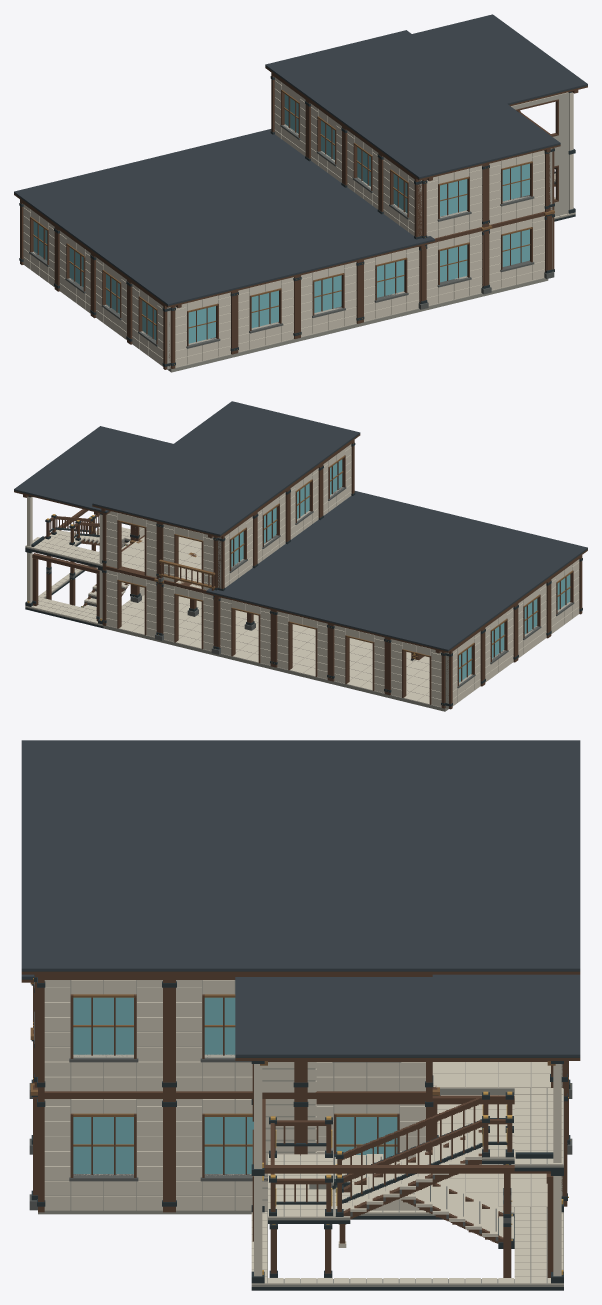
Rendered from visual-far.glb.
3 renders of one model, top to bottom at view 1: azimuth 30°, elevation 25°; view 2: azimuth 150°, elevation 25°; view 3: azimuth 270°, elevation 25°, orthographic. The views are drawn at different scales.
Parts seen in each view (by area): view 1: 连续屋面 · flat (×3), 真实窗洞与玻璃 (×16), 服务翼侧出口派生 · 原母版另存; view 2: 连续屋面 · flat (×3), 真实门洞墙 (×8), 真实窗洞与玻璃 (×8), 石铺面与混凝土楼板 (×8), 服务翼侧出口派生 · 原母版另存, 共享双跑回行踏步, 廊边木栏与实际竖梃; view 3: 连续屋面 · flat (×3), 真实窗洞与玻璃 (×6), 服务翼侧出口派生 · 原母版另存, 共享双跑回行踏步, 石铺面与混凝土楼板 (×3), 共享楼梯半转平台, 共享双跑上行踏步, 木柱、石础与金属抱箍.
Part boxes in pixels (box(x1,y1,x2,y2)): 连续屋面 · flat (×3): box(14, 14, 587, 307); 真实窗洞与玻璃 (×16): box(19, 72, 549, 369); 服务翼侧出口派生 · 原母版另存: box(511, 91, 575, 221); 连续屋面 · flat (×3): box(14, 401, 587, 653); 真实门洞墙 (×8): box(102, 511, 445, 708); 真实窗洞与玻璃 (×8): box(217, 440, 582, 709); 石铺面与混凝土楼板 (×8): box(103, 541, 448, 711); 服务翼侧出口派生 · 原母版另存: box(25, 496, 144, 628); 共享双跑回行踏步: box(45, 514, 99, 578); 廊边木栏与实际竖梃: box(158, 559, 215, 590); 连续屋面 · flat (×3): box(21, 740, 580, 1065); 真实窗洞与玻璃 (×6): box(37, 974, 433, 1212); 服务翼侧出口派生 · 原母版另存: box(251, 1061, 563, 1290); 共享双跑回行踏步: box(334, 1091, 514, 1223); 石铺面与混凝土楼板 (×3): box(432, 1062, 550, 1208); 共享楼梯半转平台: box(268, 1116, 333, 1277); 共享双跑上行踏步: box(334, 1154, 514, 1248); 木柱、石础与金属抱箍: box(29, 1083, 37, 1210).
Bounding box in the file's own units: 24.4 × 6.78 × 13.6.
16 materials, 16 textured.
